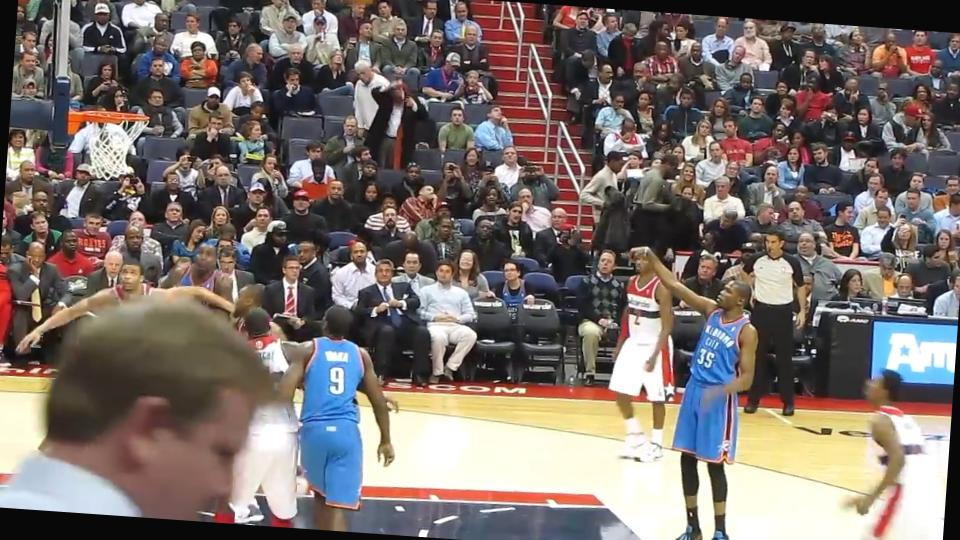hoop: (68, 106, 150, 129)
